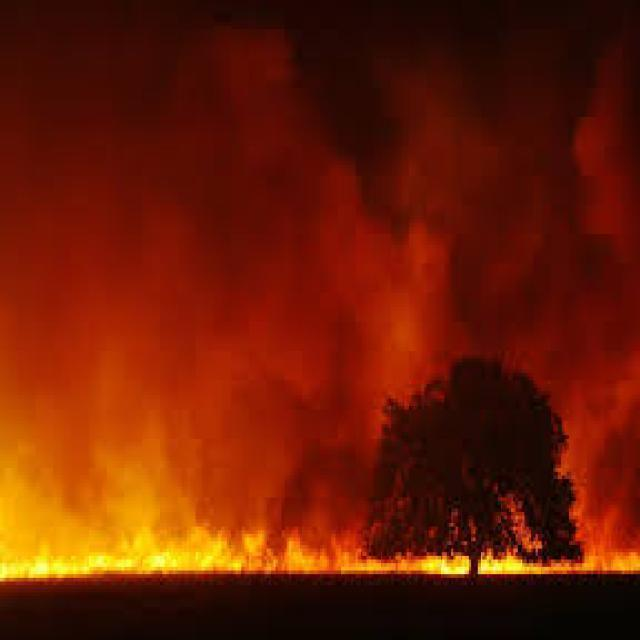Fire: (9, 514, 607, 594)
Smoke: (58, 67, 626, 408)
